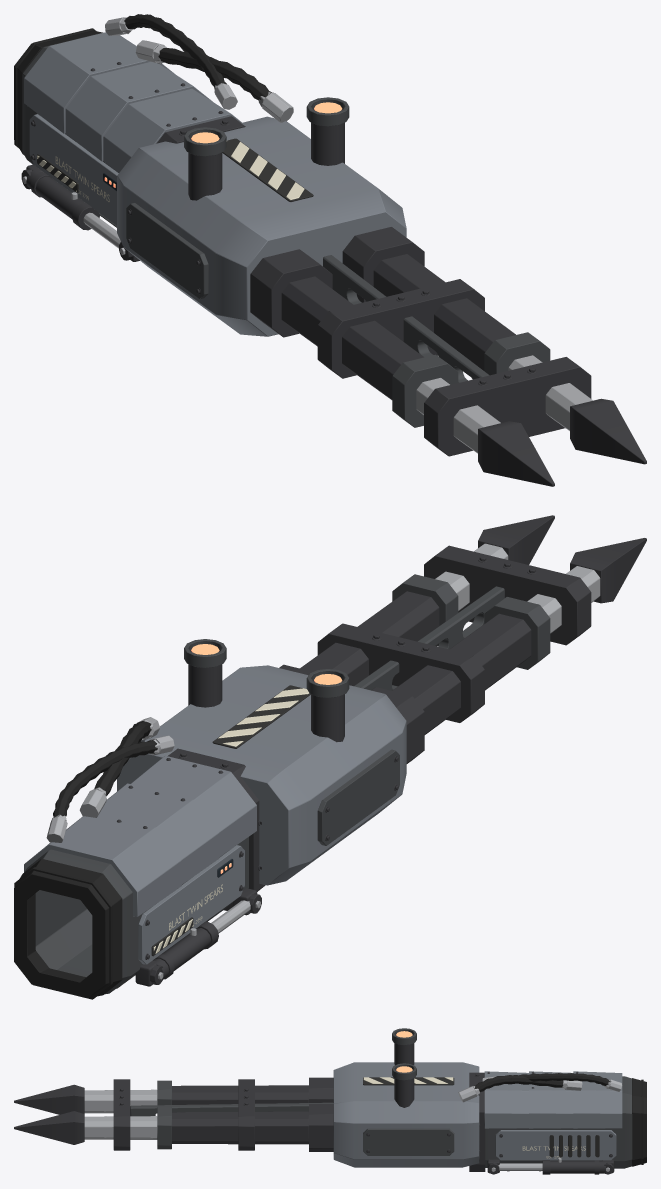
File: twinspear.glb
The picture shows the model from 3 angles, top to bottom: view 1: azimuth 30°, elevation 25°; view 2: azimuth 150°, elevation 25°; view 3: azimuth 270°, elevation 25°; orthographic projection. The views are drawn at different scales.
Parts seen in each view (by area): view 1: Body; view 2: Body; view 3: Body.
Boxes of the visible parts, left/top/right/bottom form: Body: left=14, top=14, right=646, bottom=486; Body: left=14, top=515, right=646, bottom=999; Body: left=14, top=1028, right=646, bottom=1174.
Bounding box in the file's own units: 0.3269 × 0.303 × 1.52.
